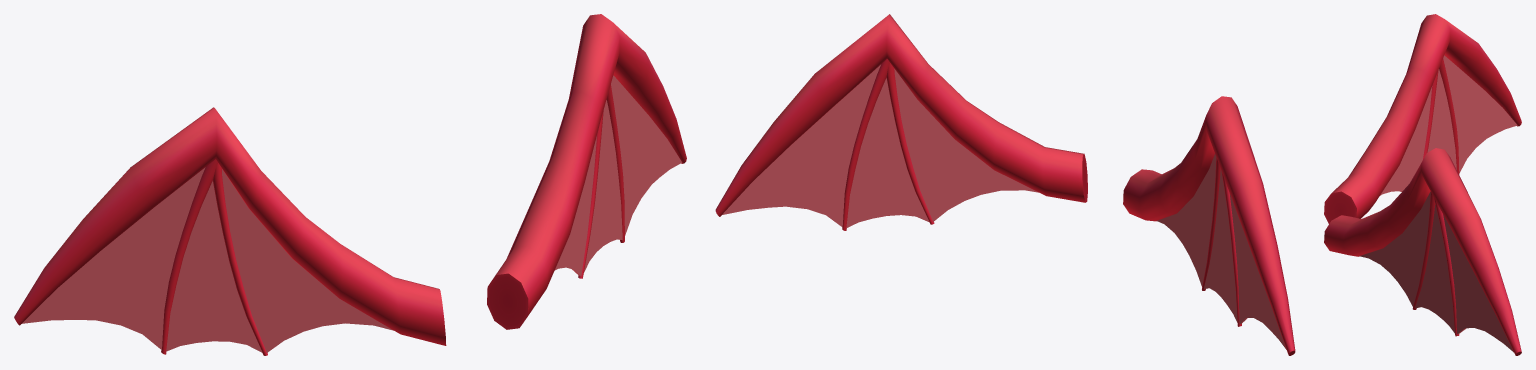
Rendered from Suzysaur_DragonWings_Spine2.fbx.
3 views of the same model, side by side, from view 1: azimuth 30°, elevation 25°; view 2: azimuth 150°, elevation 25°; view 3: azimuth 270°, elevation 25° (orthographic). The views are drawn at different scales.
Parts seen in each view (by area): view 1: DragonWings_L_mesh, DragonWings_R_mesh; view 2: DragonWings_R_mesh, DragonWings_L_mesh; view 3: DragonWings_R_mesh, DragonWings_L_mesh.
Boxes of the visible parts, x1,y1,x2,y2 form: DragonWings_L_mesh: [14, 107, 446, 355]; DragonWings_R_mesh: [487, 14, 686, 329]; DragonWings_R_mesh: [715, 14, 1087, 230]; DragonWings_L_mesh: [1123, 96, 1295, 355]; DragonWings_R_mesh: [1324, 148, 1521, 355]; DragonWings_L_mesh: [1324, 14, 1521, 223].
Bounding box in the file's own units: 10.14 × 3.58 × 3.65.
